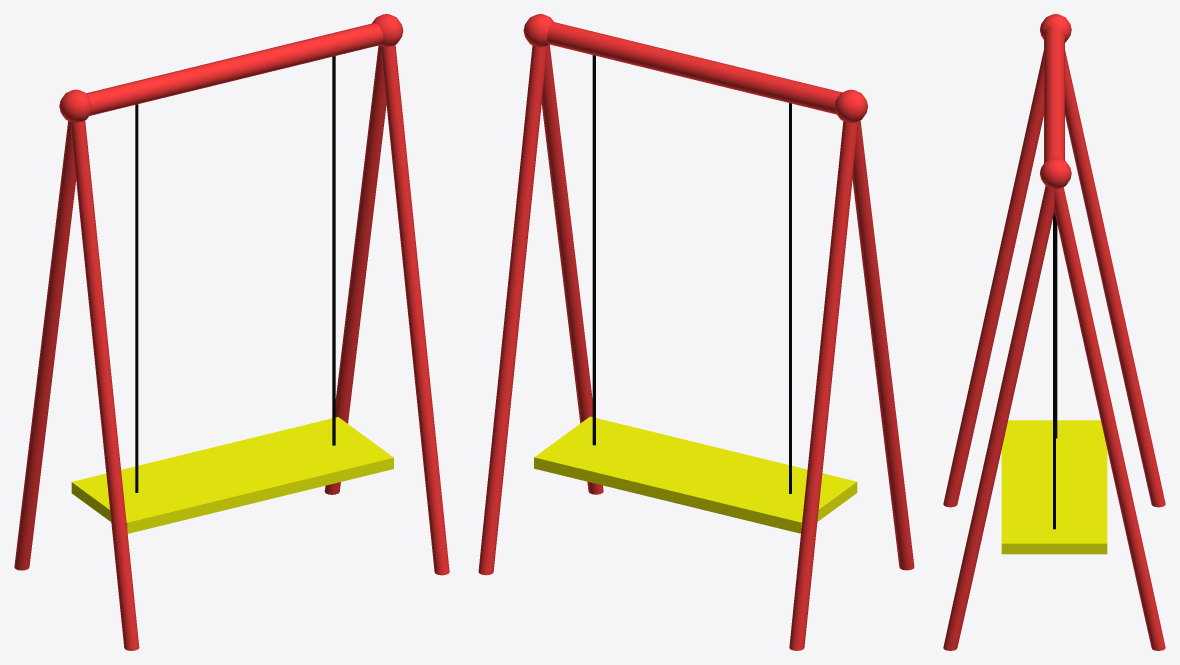
Rendered from Swingset.obj.
3 views of the same model, side by side, from view 1: azimuth 30°, elevation 25°; view 2: azimuth 150°, elevation 25°; view 3: azimuth 270°, elevation 25° (orthographic). The views are drawn at different scales.
Parts seen in each view (by area): view 1: mesh08, mesh05, mesh03, mesh01, mesh02, mesh04, mesh07, mesh06, sphere01, sphere02; view 2: mesh08, mesh02, mesh04, mesh01, mesh03, mesh05, mesh07, mesh06, sphere01, sphere02; view 3: mesh08, mesh05, mesh04, mesh02, mesh03, mesh01, mesh07, sphere02, sphere01, mesh06.
Part boxes in pixels (x1,y1,x2,y2): mesh08: [71, 417, 393, 533]; mesh05: [381, 45, 449, 575]; mesh03: [70, 120, 139, 650]; mesh01: [86, 23, 383, 115]; mesh02: [14, 121, 76, 570]; mesh04: [324, 45, 386, 494]; mesh07: [332, 56, 335, 445]; mesh06: [135, 104, 138, 492]; sphere01: [59, 89, 91, 122]; sphere02: [372, 14, 403, 46]; mesh08: [534, 416, 857, 533]; mesh02: [789, 121, 857, 650]; mesh04: [478, 45, 547, 575]; mesh01: [547, 22, 842, 114]; mesh03: [852, 120, 914, 570]; mesh05: [541, 45, 603, 494]; mesh07: [592, 55, 595, 445]; mesh06: [789, 103, 791, 493]; sphere01: [835, 89, 867, 123]; sphere02: [523, 14, 553, 47]; mesh08: [1001, 420, 1107, 554]; mesh05: [943, 186, 1054, 650]; mesh04: [1054, 187, 1165, 650]; mesh02: [1065, 50, 1165, 507]; mesh03: [943, 50, 1043, 507]; mesh01: [1044, 25, 1064, 162]; mesh07: [1053, 211, 1055, 529]; sphere02: [1040, 157, 1071, 189]; sphere01: [1040, 14, 1071, 42]; mesh06: [1056, 219, 1057, 438].
Bounding box in the file's own units: 21.33 × 30.98 × 12.77.
3 materials, 3 textured.
